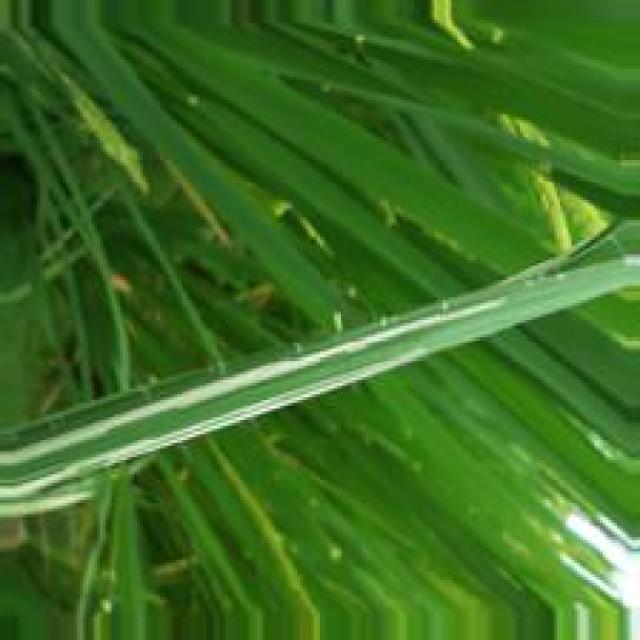Rice_Hispa: (2, 303, 513, 462), (0, 345, 430, 509)
